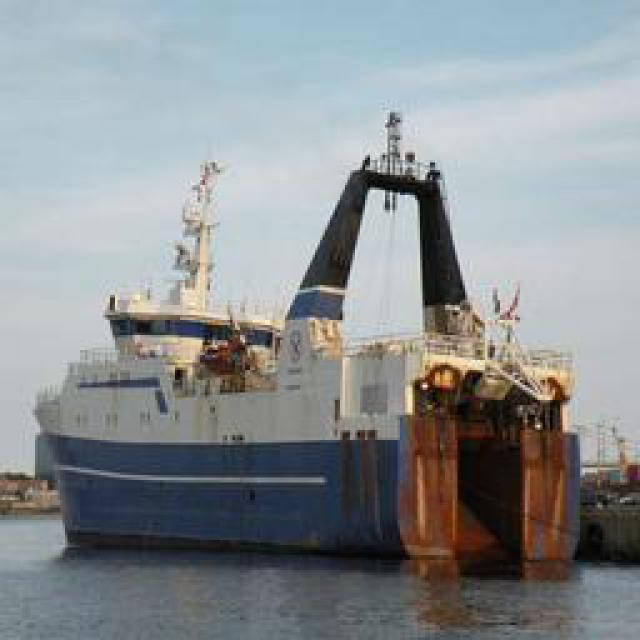Ship: (36, 101, 581, 556)
